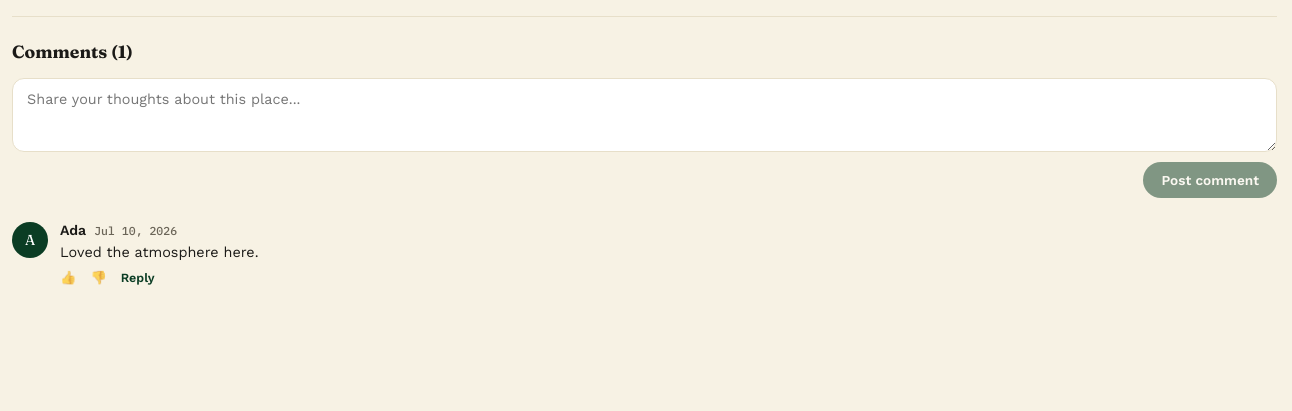
Test: CommentSection › opens a reply form and submits a reply
Expected: the text "Loved the atmosphere here." is shown, x1=60 y1=244 x2=258 y2=260
Click the button "Reply".
click(138, 277)  # box x1=121 y1=270 x2=155 y2=285
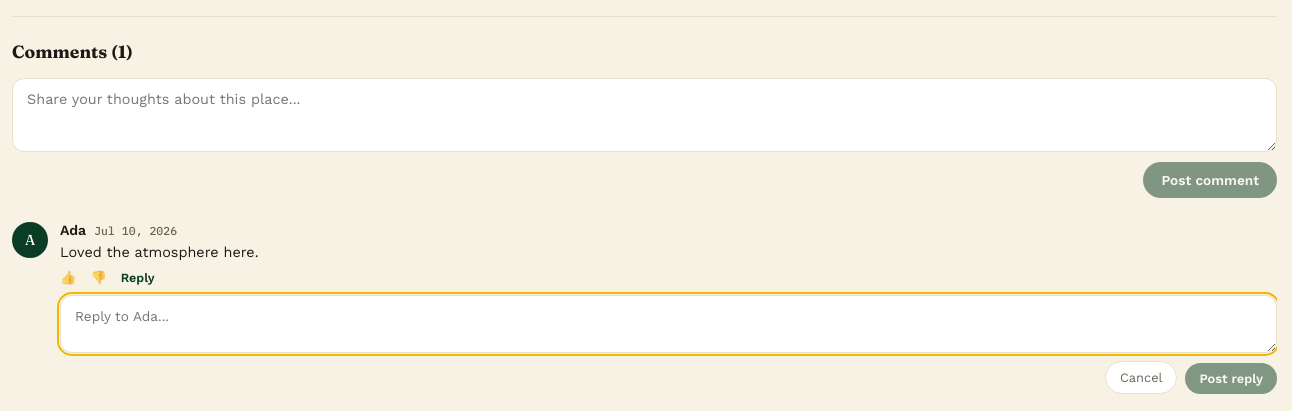
Type "Totally agree!" into the text box with placeholder "Reply to Ada...".
click(668, 324); type("Totally agree!")  # box x1=60 y1=295 x2=1277 y2=353
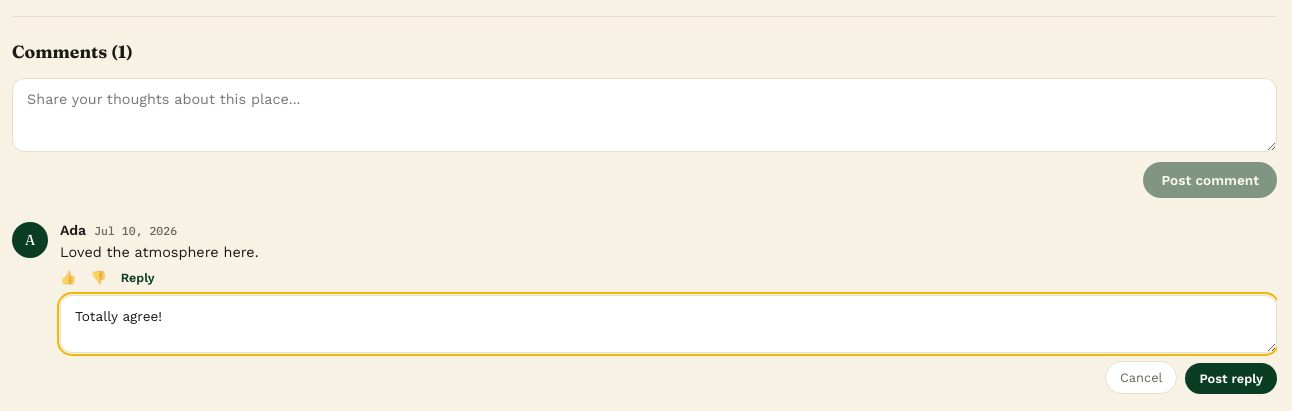
Click the button "Post reply".
click(1231, 378)  # box x1=1186 y1=363 x2=1277 y2=394
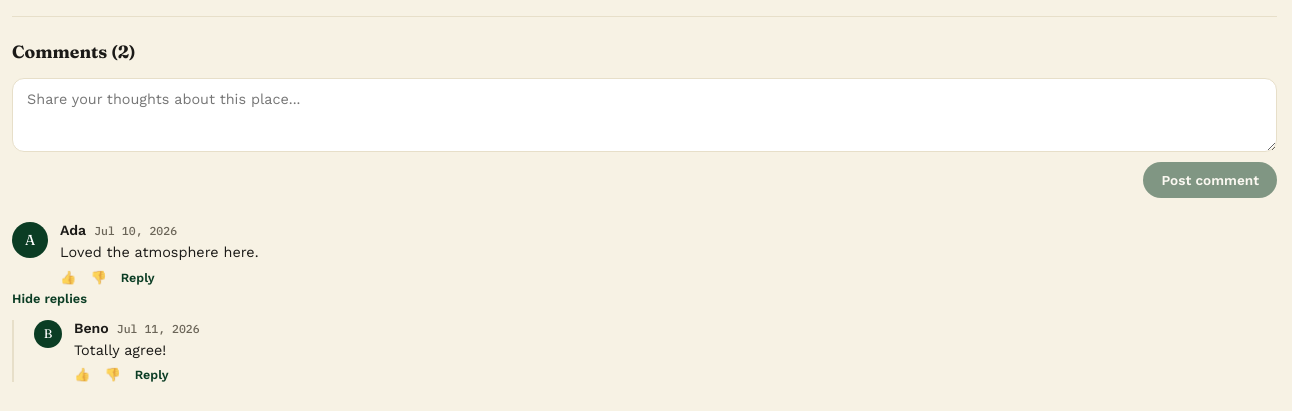
Expected: the text "Totally agree!" is shown, x1=74 y1=342 x2=166 y2=358
